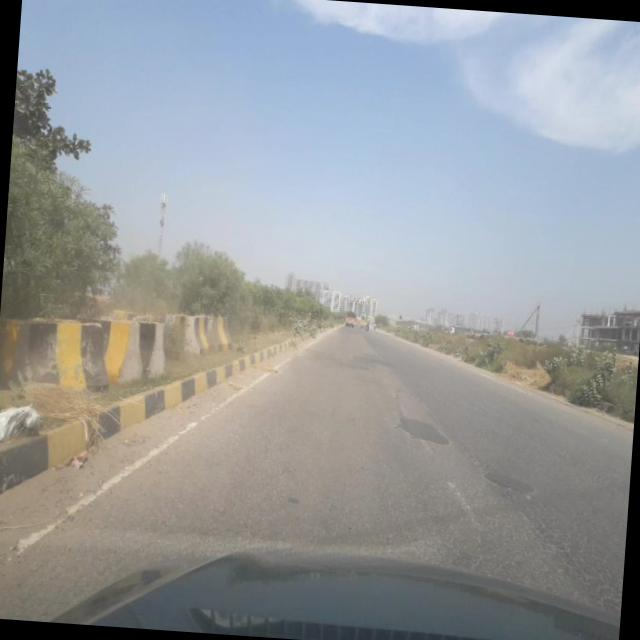crack: (51, 438, 629, 570)
